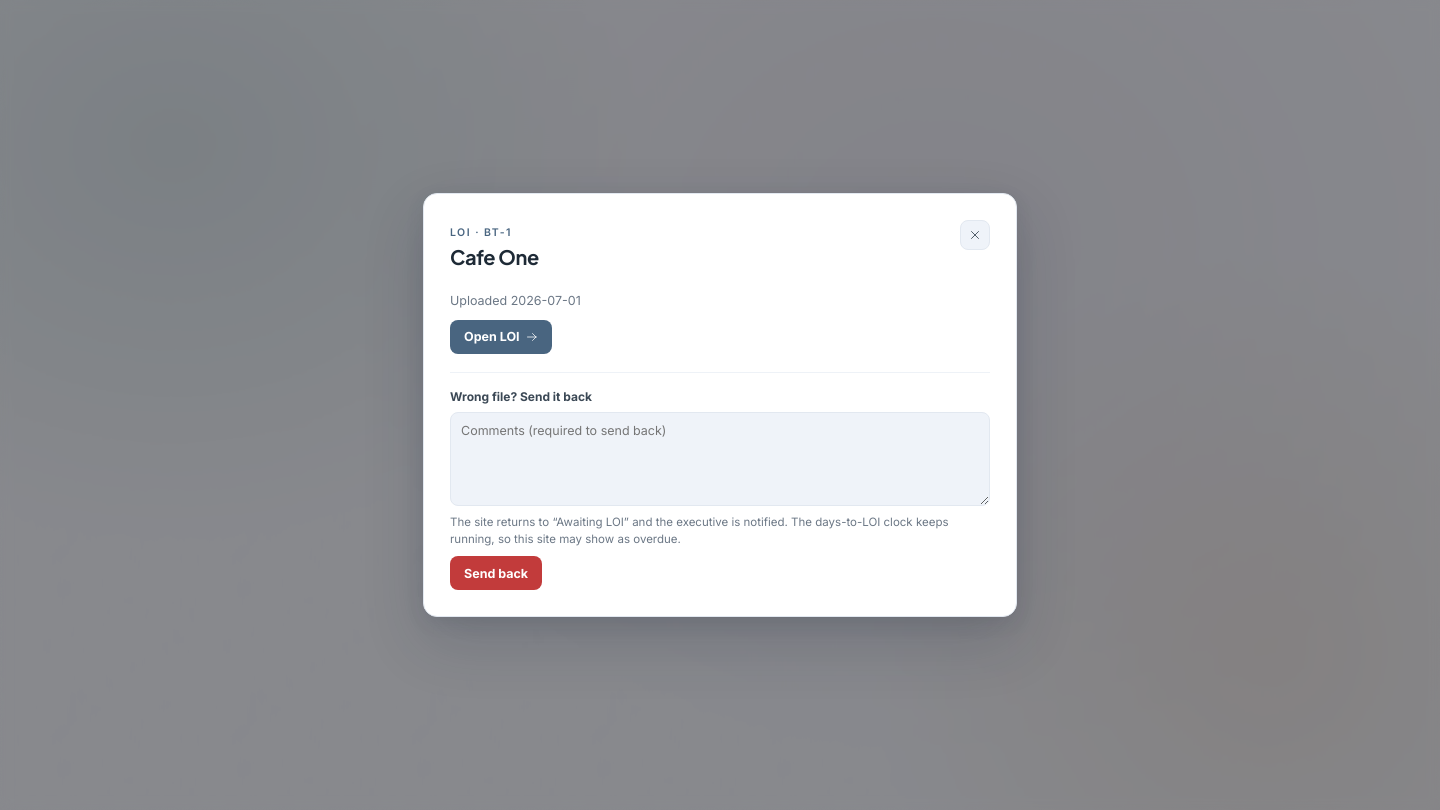
send back › surfaces a send-back failure without closing
In the text box: (720, 459) left=450, top=412, right=990, bottom=506, type "wrong file"
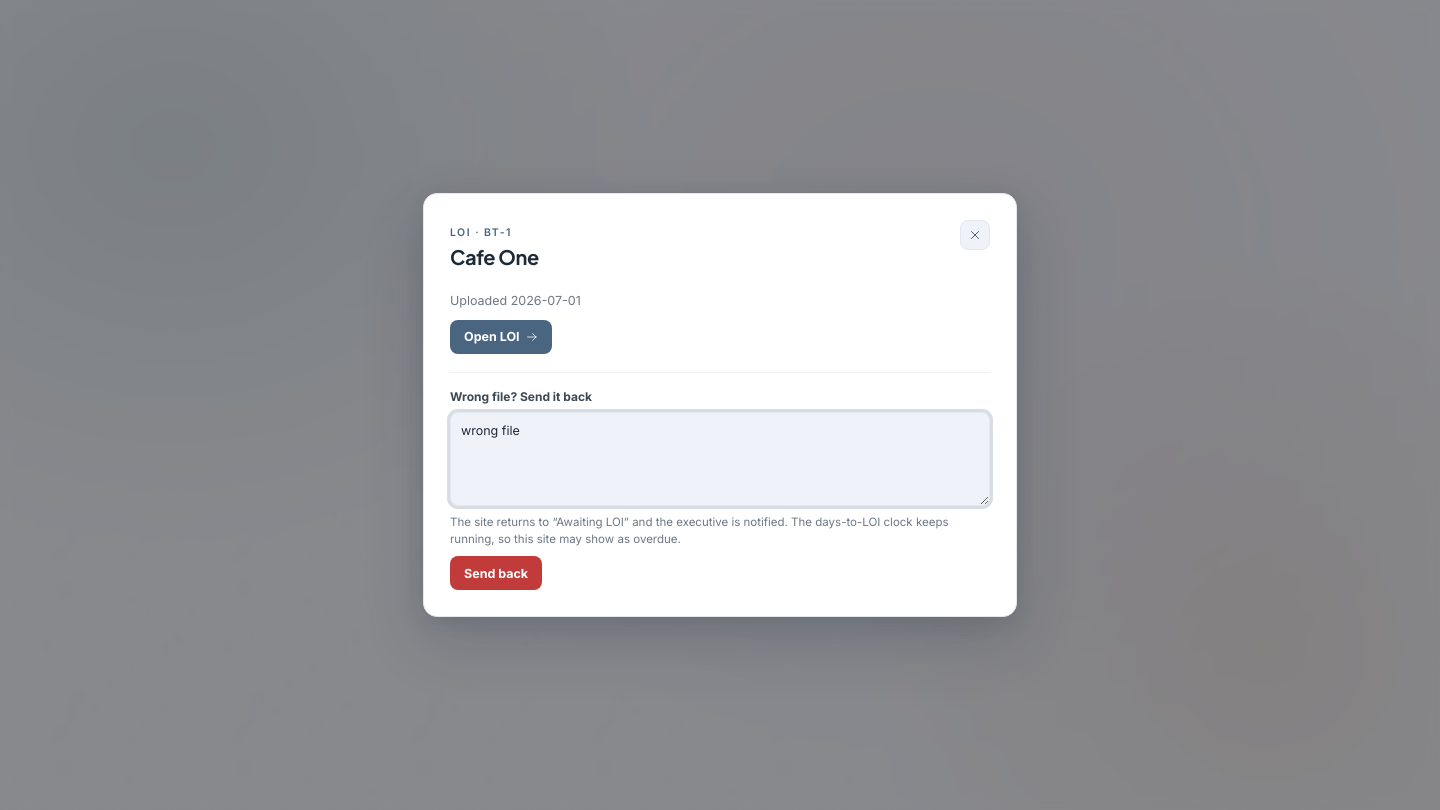
Click the button "Send back": (496, 573) left=450, top=556, right=542, bottom=590
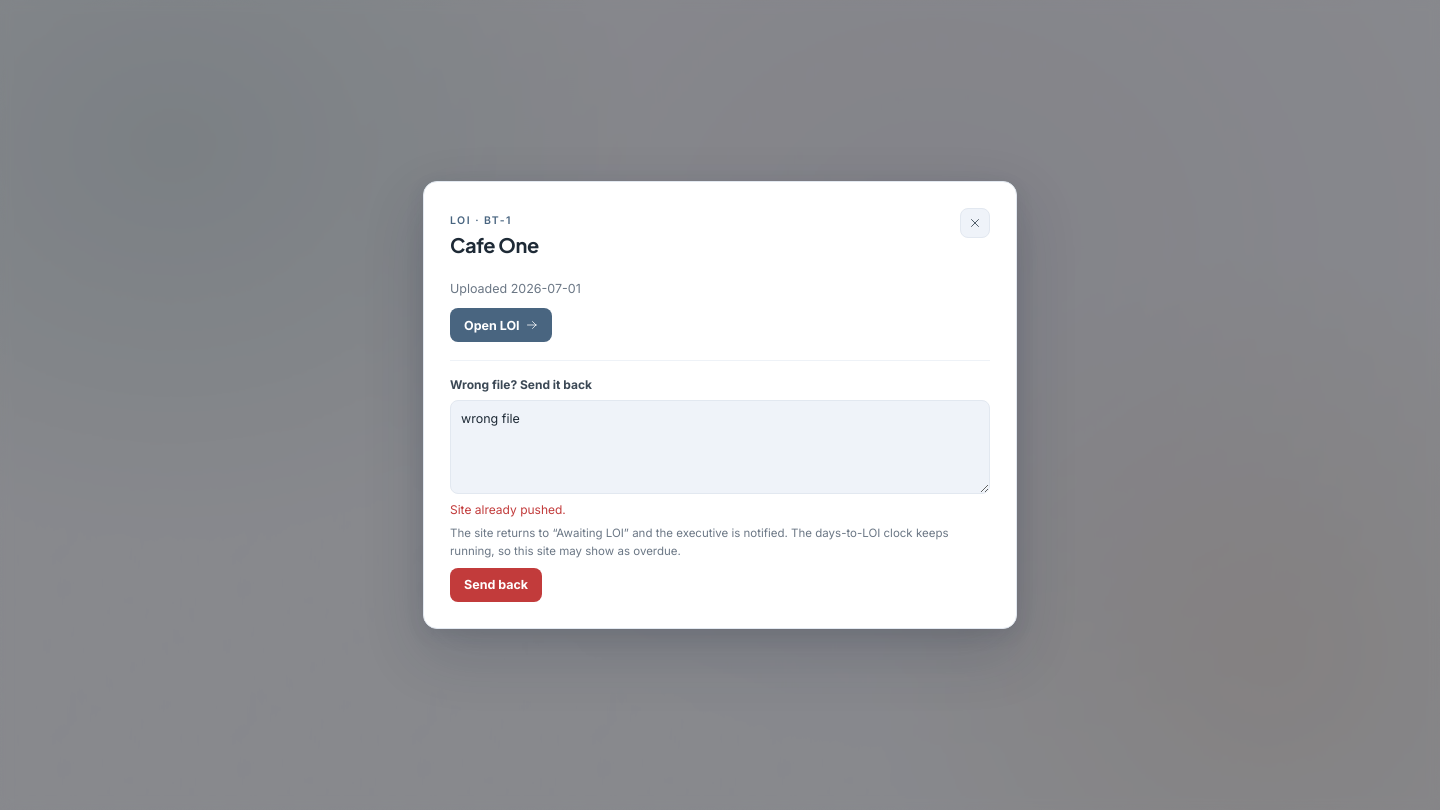
Result: the text "Site already pushed." is shown at left=450, top=502, right=566, bottom=517
